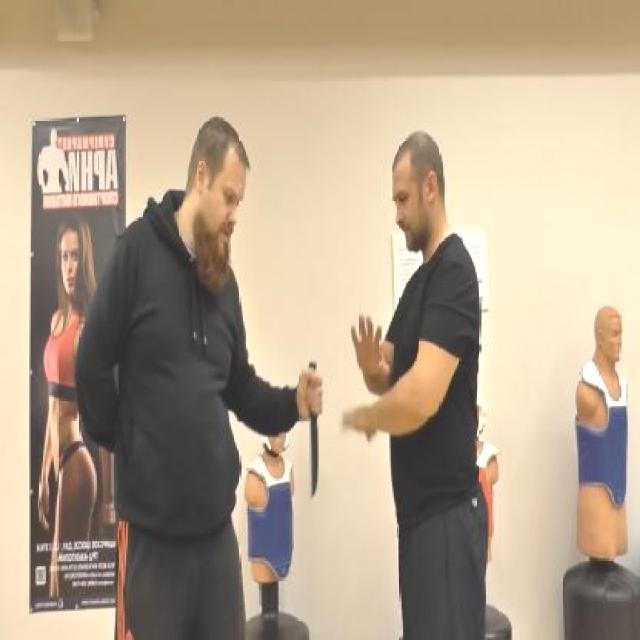knife: (302, 358, 324, 504)
